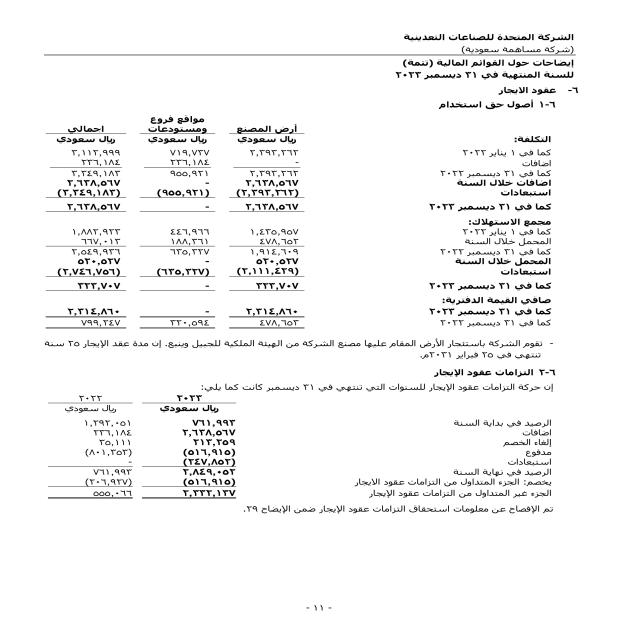notes: (384, 59, 581, 69)
table: (11, 97, 322, 336), (33, 392, 253, 500)
